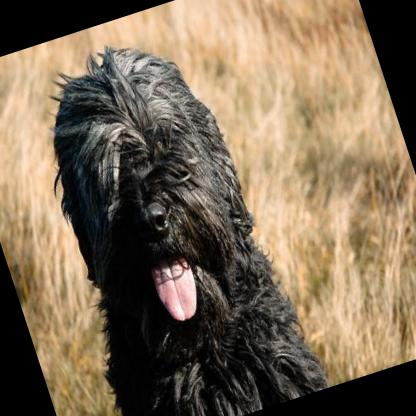briard: (0, 6, 328, 416)
